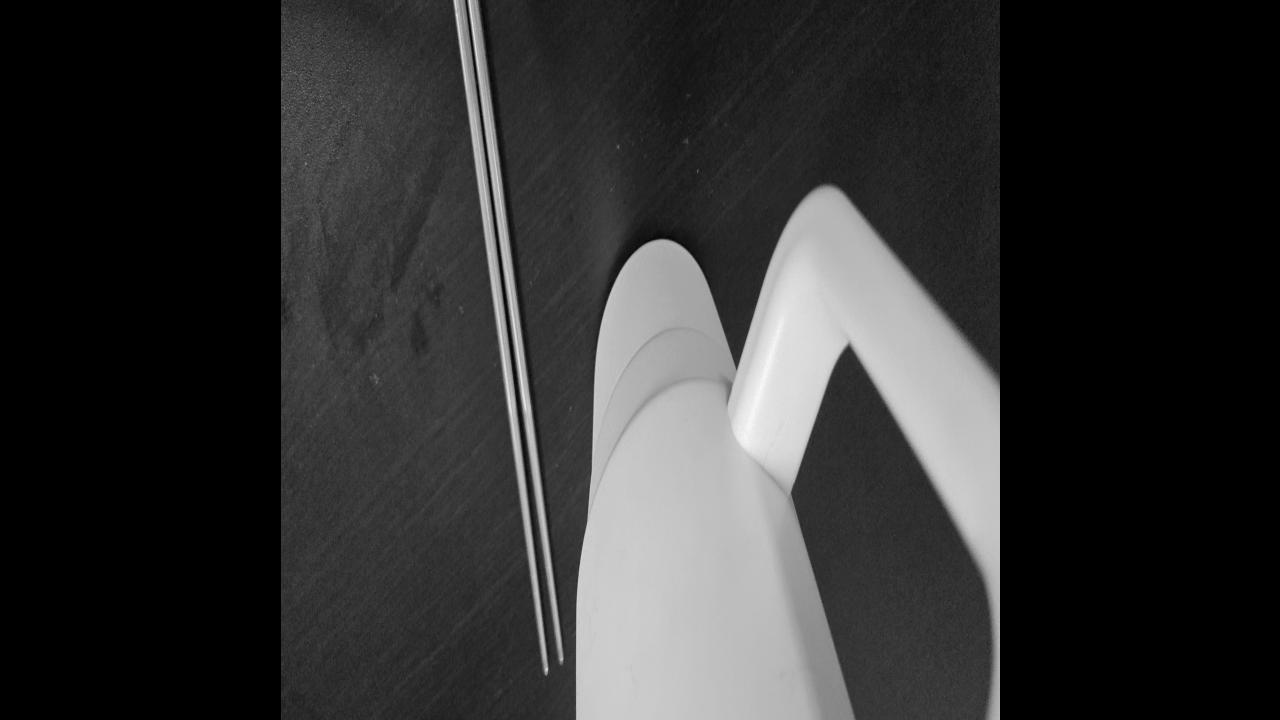chopstick: (416, 0, 561, 674)
